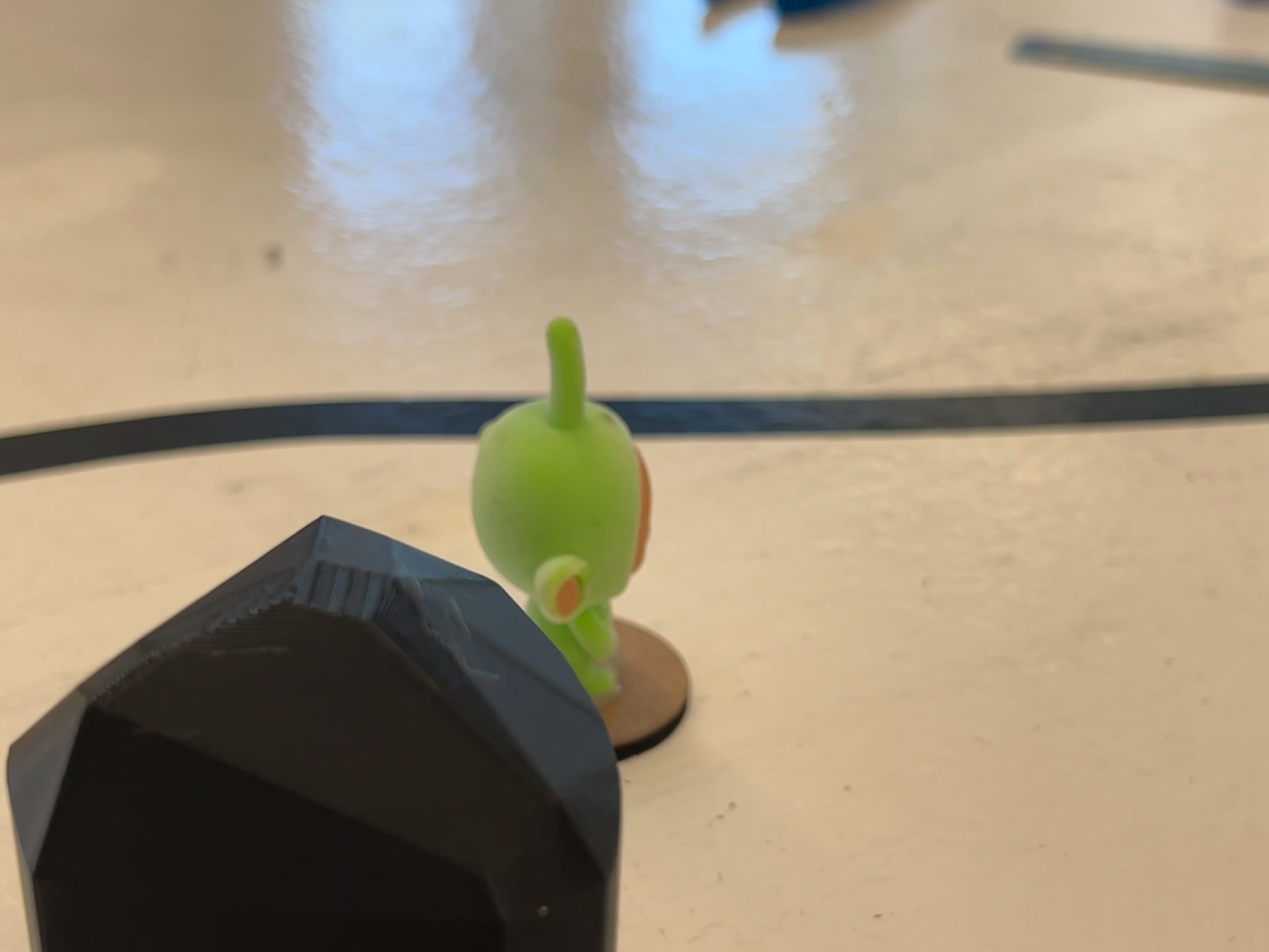teletubby: (472, 318, 650, 697)
